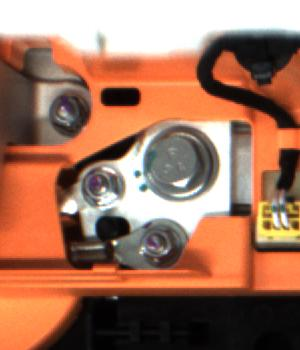nut_b: (143, 123, 221, 209)
screw_s: (81, 167, 132, 214), (45, 93, 93, 140), (135, 223, 178, 259)
